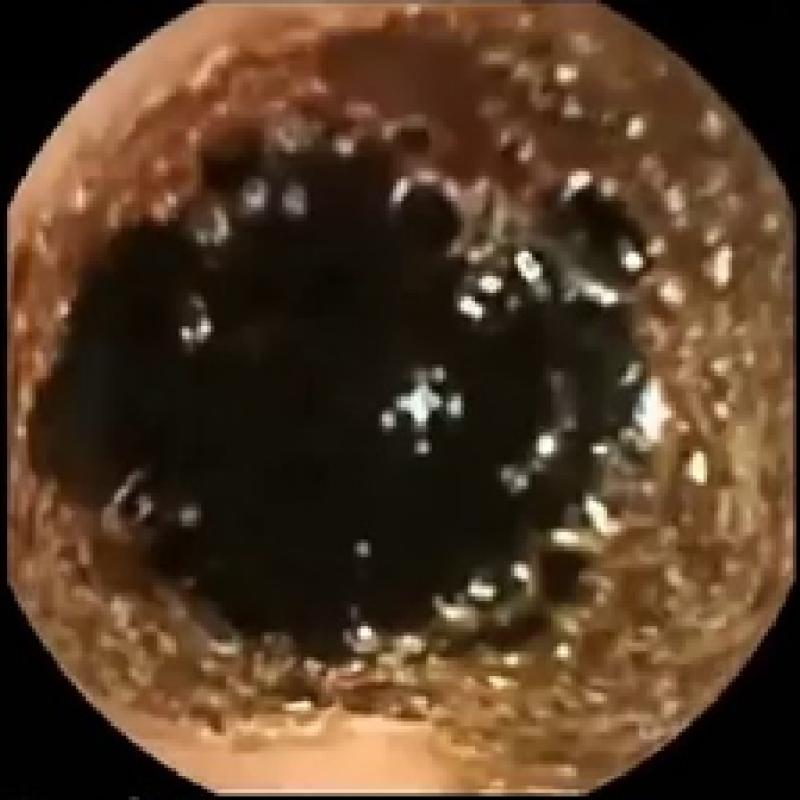bleeding: (57, 147, 650, 682)
